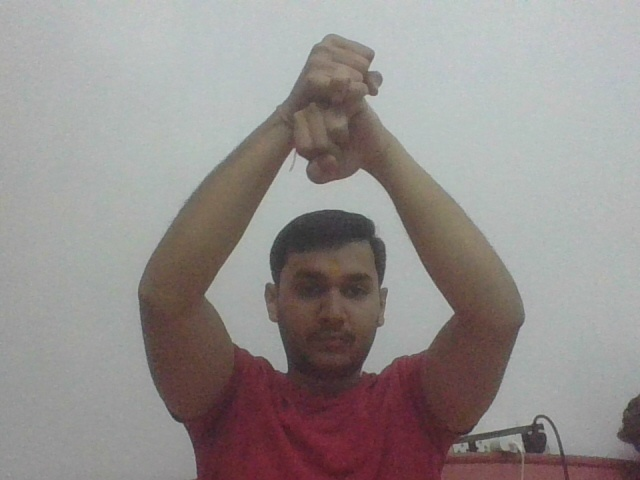S: (291, 12, 386, 191)
